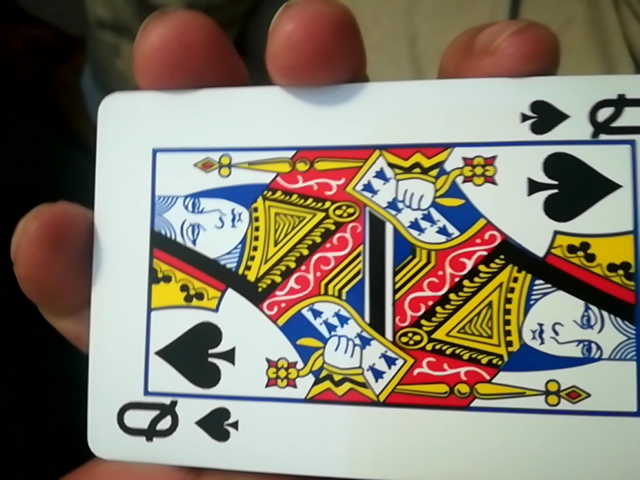ht q: (73, 75, 637, 479)
